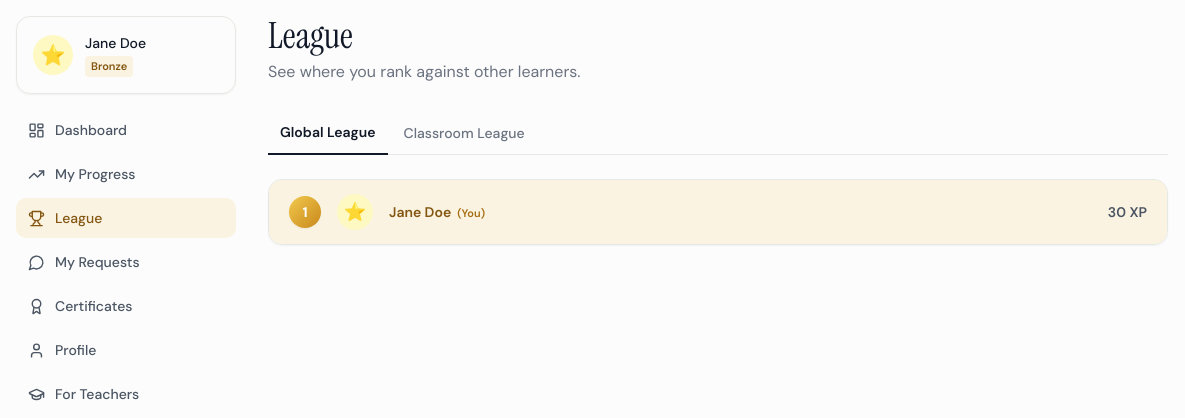
Test case: League › shows an empty-state message instead of a dropdown when the student has no enrolled courses
Step 1. Click the button "Classroom League" → click(464, 133), box x1=392 y1=112 x2=537 y2=154
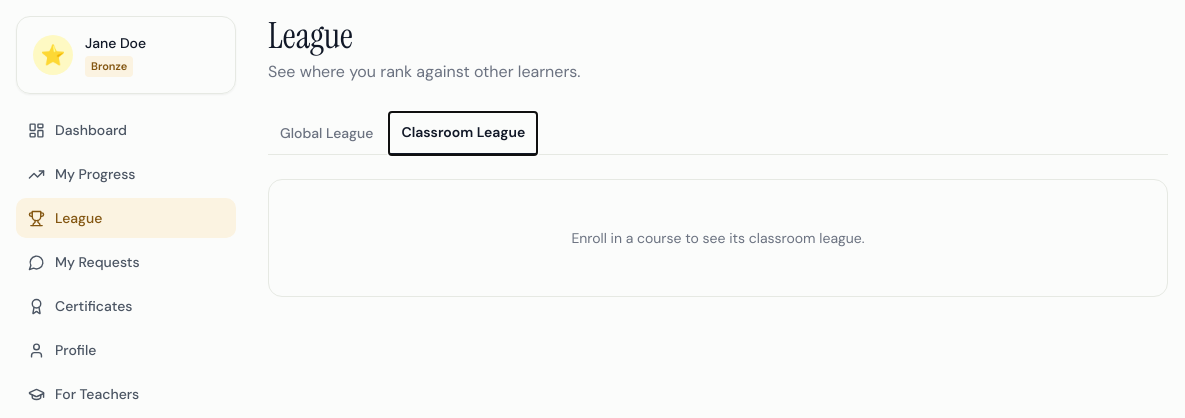
Check: the text "Enroll in a course to see its classroom league." is shown, box x1=571 y1=229 x2=865 y2=247
